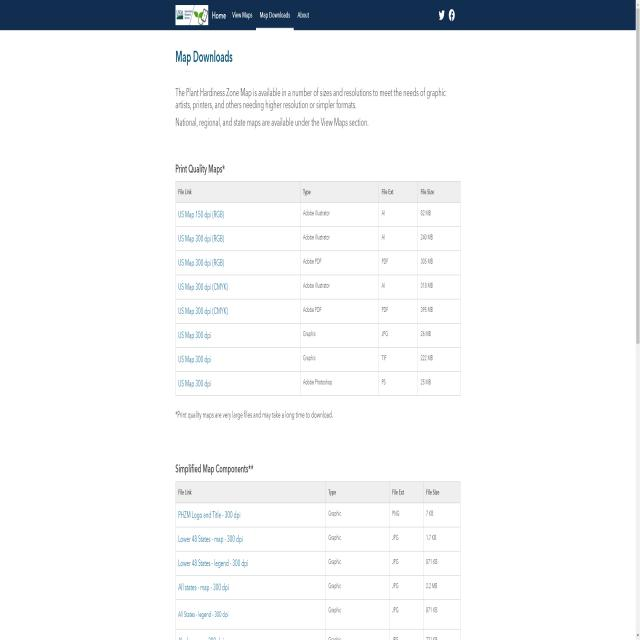menu-bar: (437, 1, 467, 34)
tab-bar: (210, 3, 312, 33)
